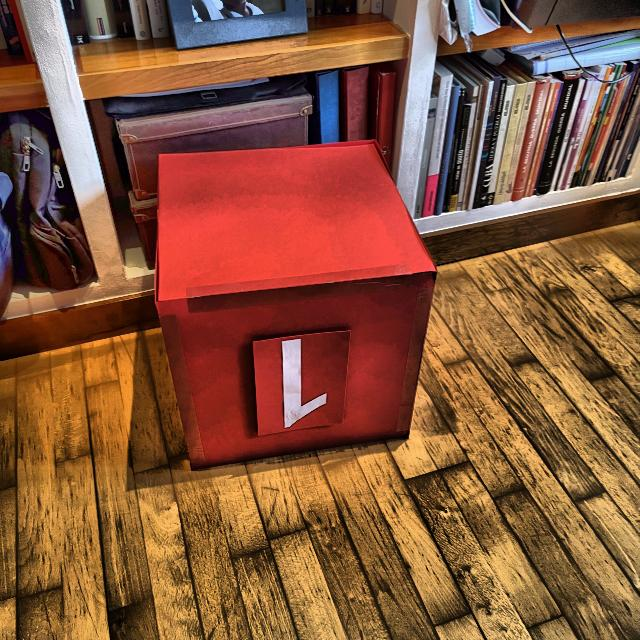one: (280, 336, 330, 428)
red box: (154, 143, 436, 474)
